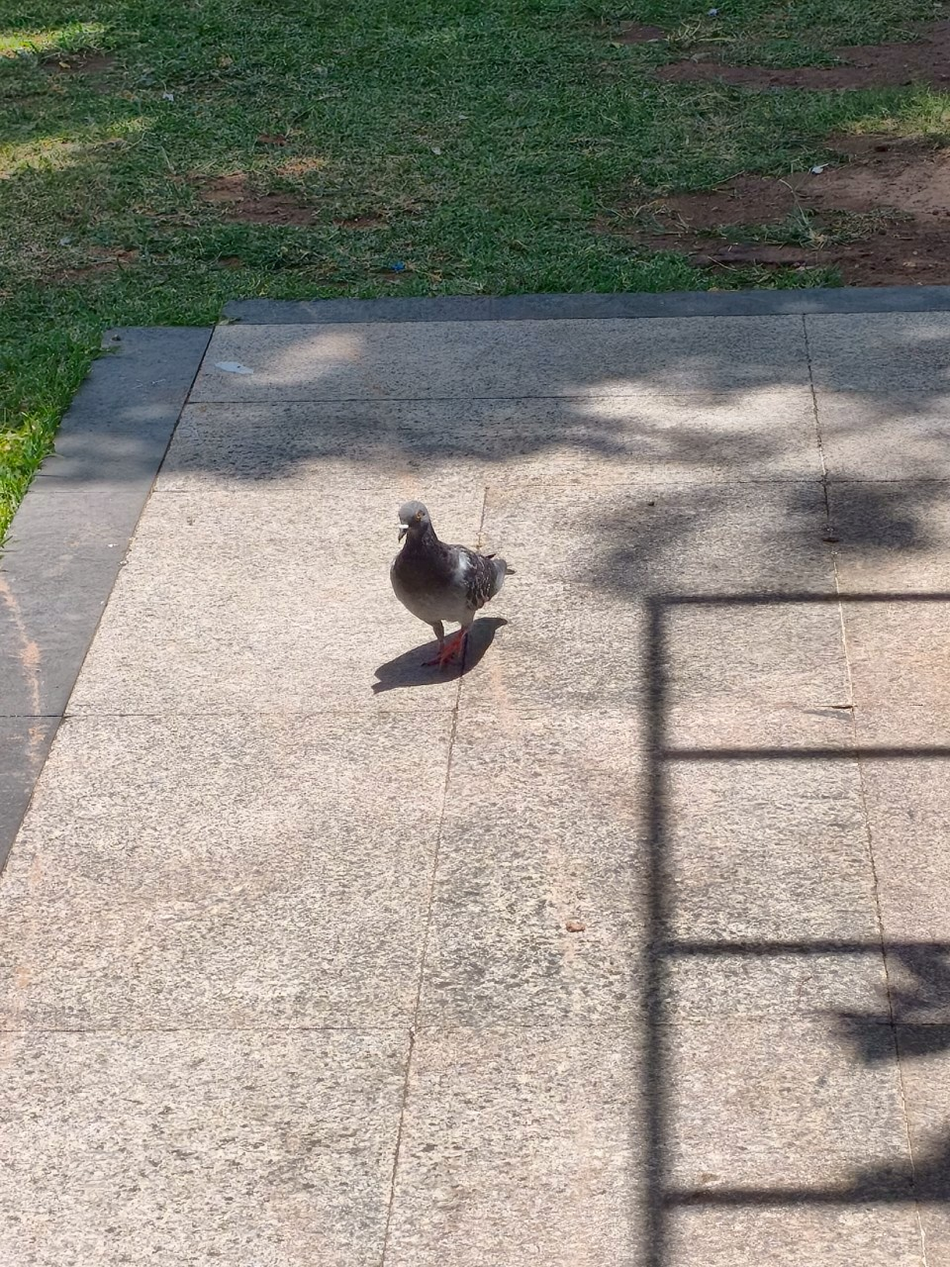Pigeon: (390, 503, 510, 668)
